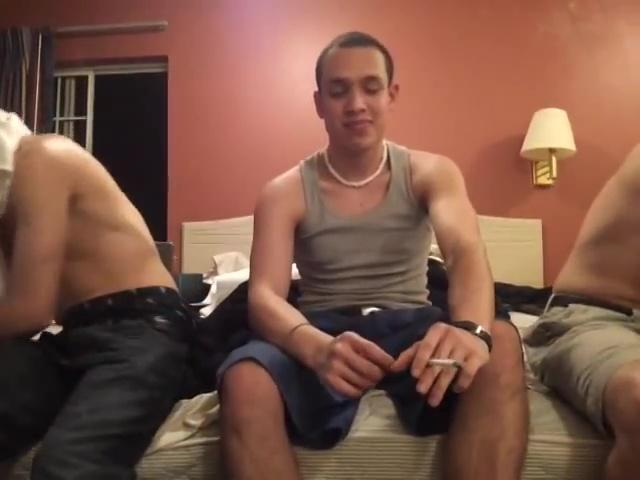cigarette: (425, 358, 465, 367)
